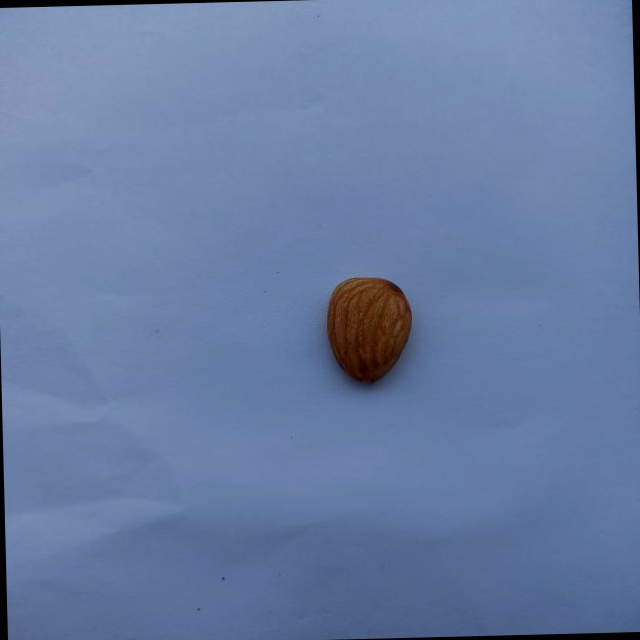grade1: (316, 269, 420, 393)
